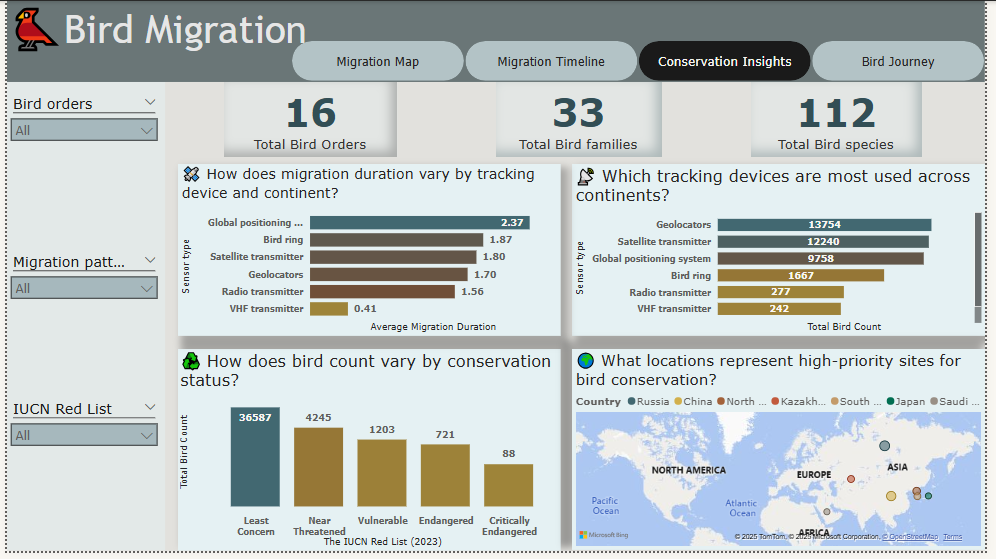

The page's visual inventory and layout, read from the dashboard file:
{"tool":"powerbi","page":{"name":"Conservation Insights","canvas":[1280,720],"ordinal":2},"visuals":[{"type":"textbox","title":"🐦Bird Migration","box":[0,0,1280,105.8],"z":0},{"type":"clusteredColumnChart","title":"♻️ How does bird count vary by conservation status?","fields":{"Category":["Bird migration dataset2.The IUCN Red List (2023)"],"Y":["CountNonNull(Bird migration dataset2.ID)"]},"box":[223.9,455.6,501.4,264.4],"z":1000},{"type":"clusteredBarChart","title":"📡 Which tracking devices are most used across continents?","fields":{"Category":["Bird migration dataset2.Sensor types","Bird migration dataset2.Continent"],"Y":["CountNonNull(Bird migration dataset2.ID)"]},"box":[739.6,213.4,540.7,225.2],"z":2000},{"type":"clusteredBarChart","title":"🛰️ How does migration duration vary by tracking device and continent?","fields":{"Category":["Bird migration dataset2.Sensor types","Bird migration dataset2.Continent"],"Y":["Avg(Bird migration dataset2.Total_migration_date)"]},"box":[223.9,213.4,501.4,225.2],"z":3000},{"type":"map","title":"🌍 What locations represent high-priority sites for bird conservation?","fields":{"Category":["Bird migration dataset2.Countries"],"Size":["Count(Bird migration dataset2.Bird species)"],"Series":["Bird migration dataset2.Countries"]},"box":[739.6,455.6,540.7,263.1],"z":4000},{"type":"textbox","box":[0,106,206.8,612.7],"z":5000},{"type":"slicer","fields":{"Values":["Bird migration dataset2.Migration_pattern"]},"box":[0,412.4,206.8,103.4],"z":6000},{"type":"slicer","fields":{"Values":["Bird migration dataset2.The IUCN Red List (2023)"]},"box":[0,526.3,206.8,193.7],"z":7000},{"type":"slicer","fields":{"Values":["Bird migration dataset2.Bird orders"]},"box":[0,106,206.8,290.6],"z":8000},{"type":"card","fields":{"Values":["Count(Bird migration dataset2.Bird families)"]},"box":[640,106,217.5,97.7],"z":9000},{"type":"card","fields":{"Values":["Count(Bird migration dataset2.Bird species)"]},"box":[974.5,106,224.3,97.7],"z":10000},{"type":"card","fields":{"Values":["Count(Bird migration dataset2.Bird orders)"]},"box":[283.5,106,227.1,97.7],"z":11000},{"type":"pageNavigator","box":[373.2,52.9,906.6,52.9],"z":12000}]}

Visuals, with their boxes in screenshot pixels (x1, y1, x2, y2), scaled from the page's 1280x720 canvas onto the 996x559 screenshot:
"🐦Bird Migration" textbox: box(0, 0, 995, 82)
"♻️ How does bird count vary by conservation status?" clusteredColumnChart: box(174, 354, 564, 558)
"📡 Which tracking devices are most used across continents?" clusteredBarChart: box(576, 166, 995, 341)
"🛰️ How does migration duration vary by tracking device and continent?" clusteredBarChart: box(174, 166, 564, 341)
"🌍 What locations represent high-priority sites for bird conservation?" map: box(576, 354, 995, 558)
textbox: box(0, 82, 161, 558)
slicer - Bird migration dataset2.Migration_pattern: box(0, 320, 161, 400)
slicer - Bird migration dataset2.The IUCN Red List (2023): box(0, 409, 161, 558)
slicer - Bird migration dataset2.Bird orders: box(0, 82, 161, 308)
card - Count(Bird migration dataset2.Bird families): box(498, 82, 667, 158)
card - Count(Bird migration dataset2.Bird species): box(758, 82, 933, 158)
card - Count(Bird migration dataset2.Bird orders): box(221, 82, 397, 158)
pageNavigator: box(290, 41, 995, 82)
